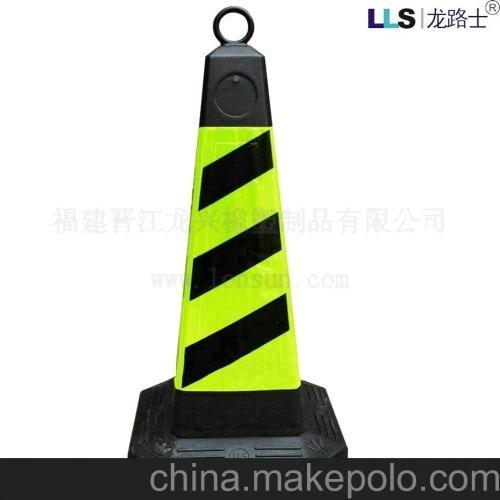cone_barrel: (134, 17, 340, 463)
